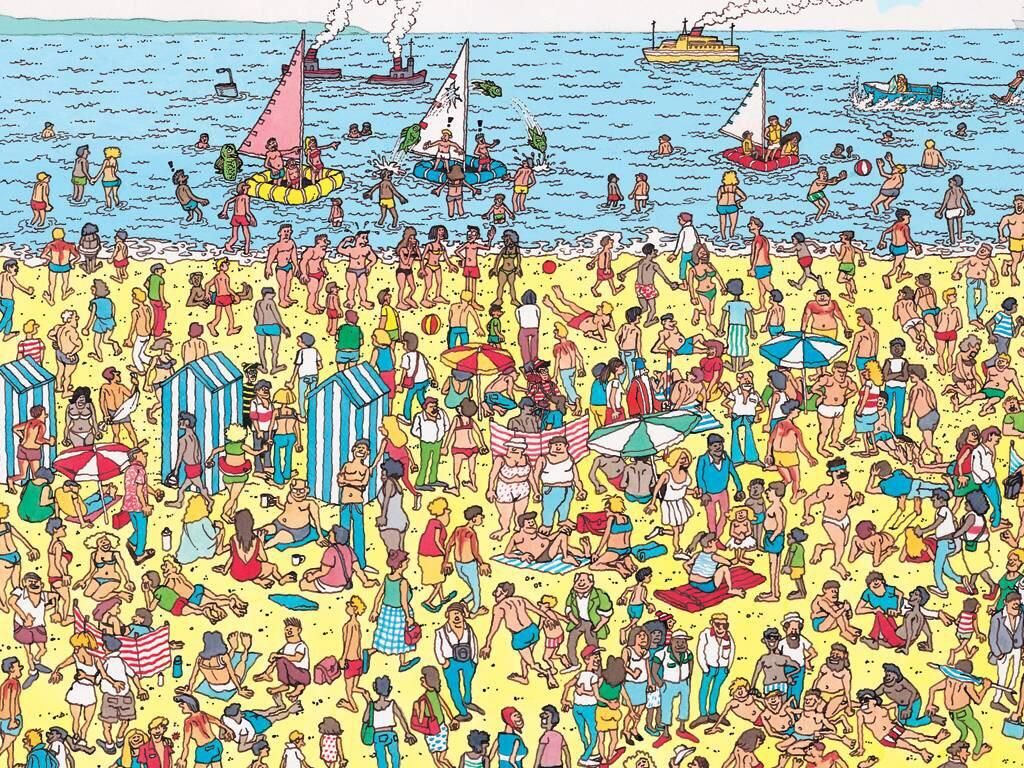Waldo: (522, 357, 560, 397)
